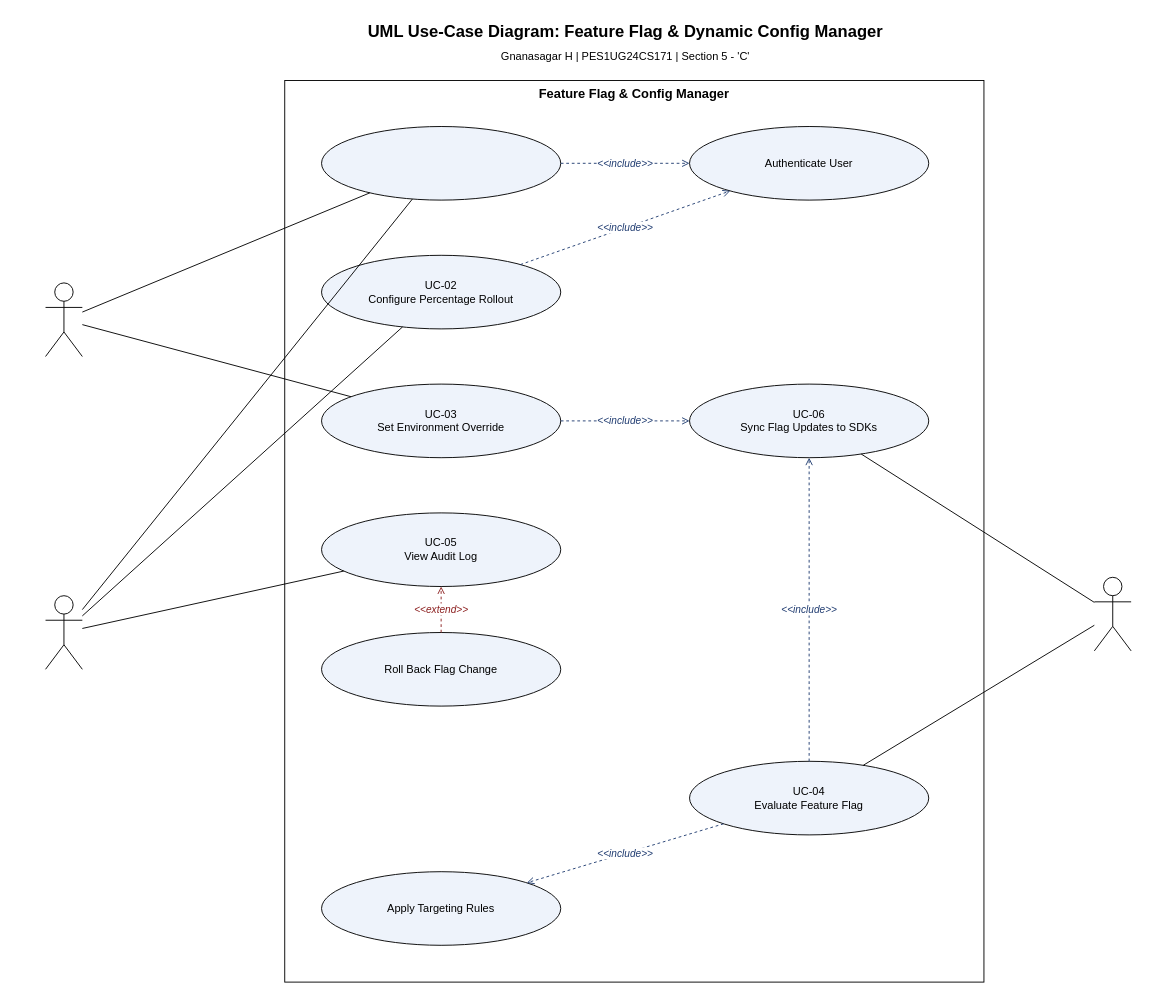
This 1169x998 diagram has some shape labels left out. The box of each missing label's shape, as (x1, y1, x2, y2) in pixels:
Client App SDK (system actor): (1093, 576, 1131, 651)
Release Manager: (45, 595, 82, 669)
Software Engineer: (45, 282, 82, 356)
UC-01 Create / Edit Feature Flag: (321, 126, 561, 200)
